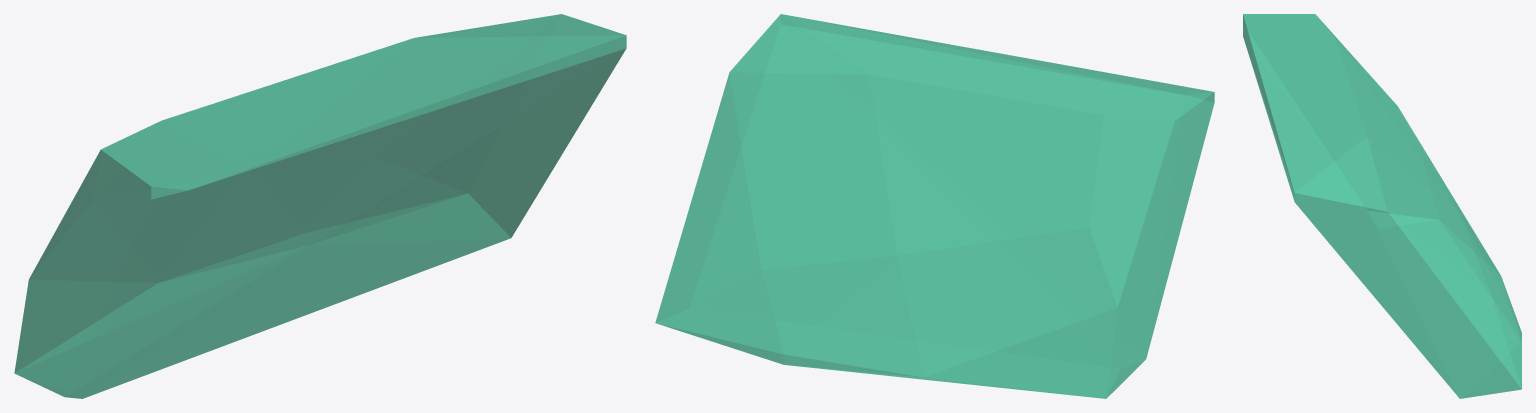
3 views of the same model, side by side, from view 1: azimuth 30°, elevation 25°; view 2: azimuth 150°, elevation 25°; view 3: azimuth 270°, elevation 25° (orthographic). The views are drawn at different scales.
Visible parts, largest first — view 1: Shape_IndexedFaceSet.040_Shape_IndexedFaceSet.4594; view 2: Shape_IndexedFaceSet.040_Shape_IndexedFaceSet.4594; view 3: Shape_IndexedFaceSet.040_Shape_IndexedFaceSet.4594.
Boxes of the visible parts, x1,y1,x2,y2 form: Shape_IndexedFaceSet.040_Shape_IndexedFaceSet.4594: [14, 14, 626, 398]; Shape_IndexedFaceSet.040_Shape_IndexedFaceSet.4594: [655, 14, 1214, 398]; Shape_IndexedFaceSet.040_Shape_IndexedFaceSet.4594: [1243, 14, 1521, 398].
Size of the model in its own units: 0.0623 by 0.0334 by 0.041.
